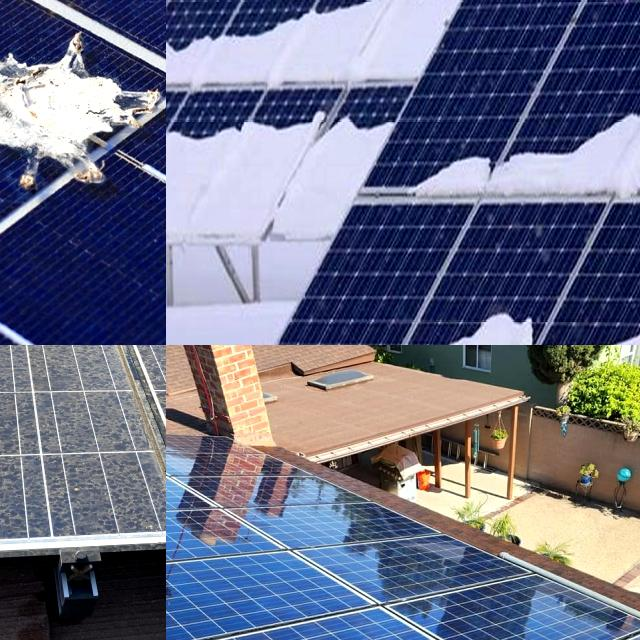bird: (0, 22, 166, 201)
crack: (339, 534, 640, 640), (284, 530, 548, 621), (166, 537, 370, 640)
dust: (0, 419, 155, 509), (0, 420, 70, 538), (0, 345, 94, 413), (0, 345, 84, 409), (71, 345, 166, 384), (42, 345, 166, 373), (0, 345, 94, 381), (0, 345, 80, 379), (0, 345, 74, 373)
panel: (496, 135, 634, 220), (313, 0, 414, 78), (180, 188, 318, 244), (330, 108, 402, 184), (395, 149, 489, 207), (266, 5, 346, 70), (374, 0, 471, 52), (166, 189, 236, 256), (196, 15, 270, 76), (453, 297, 541, 345), (604, 107, 640, 204), (266, 108, 321, 171), (174, 119, 252, 154), (166, 3, 198, 83), (166, 27, 204, 82), (166, 114, 199, 167), (577, 319, 640, 345)
